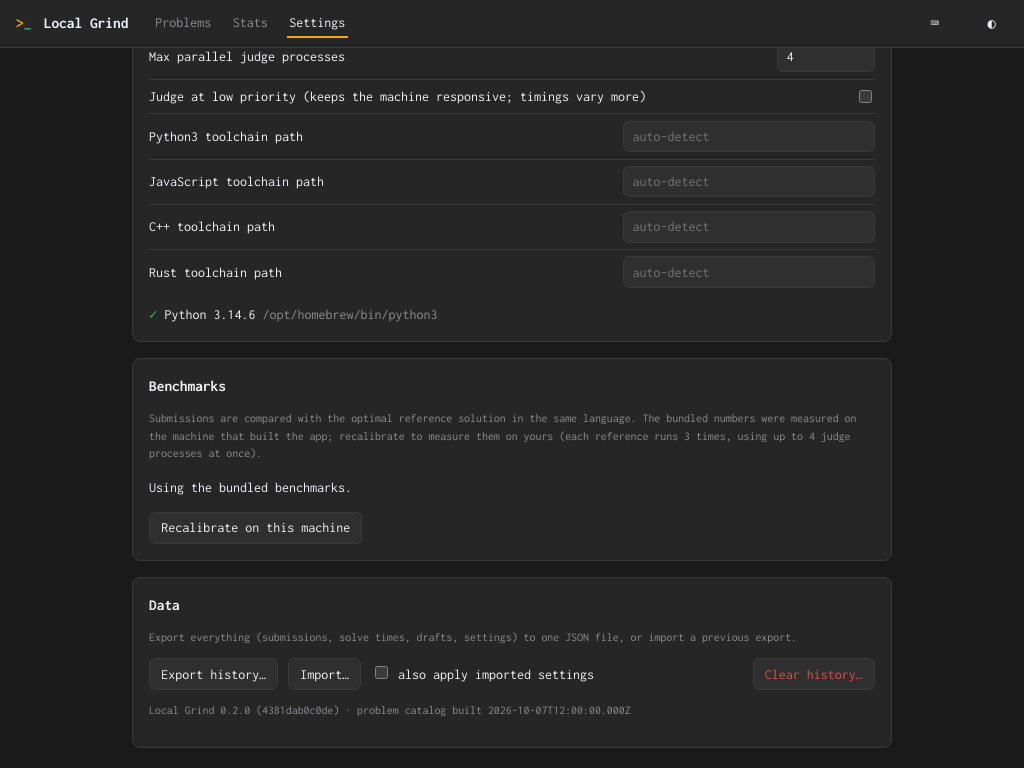
Test: App › can stop a recalibration and reports failures
The width and height of the screenshot is (1024, 768).
(page scrolled)
Expected: the link with aria-label "Local Grind home" is shown, [16,12,128,35]
Click the button "Recalibrate on this machine" at (256, 528), box [149,512,362,544]
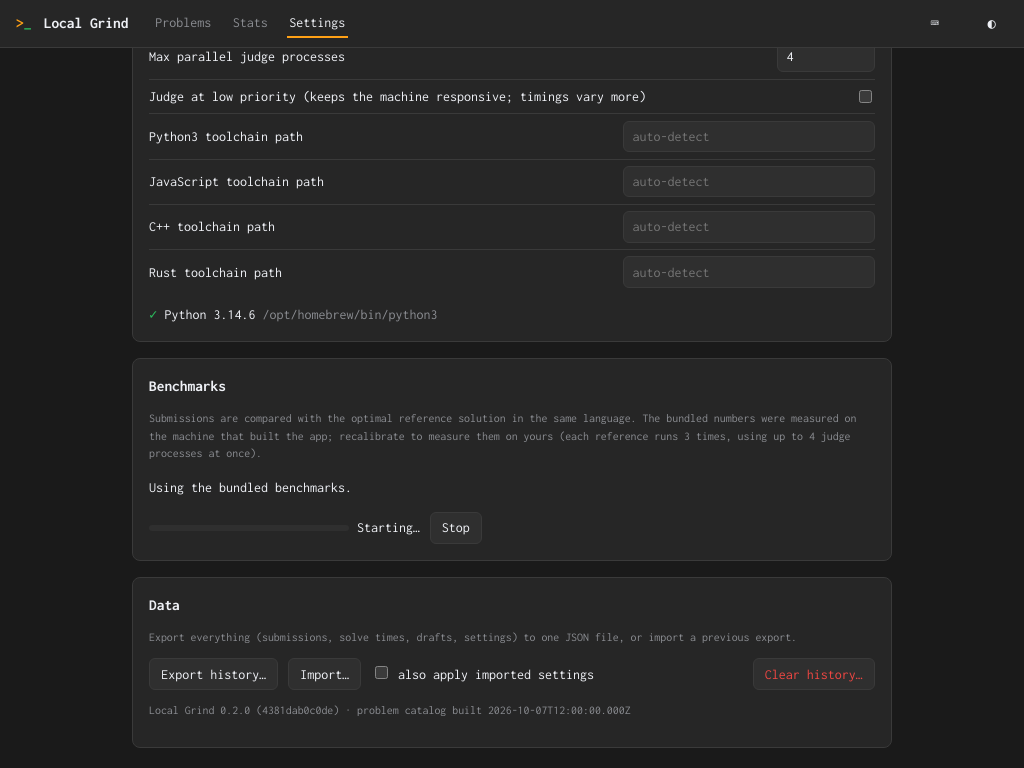
Click the button "Stop" at (456, 528), box [430,512,482,544]
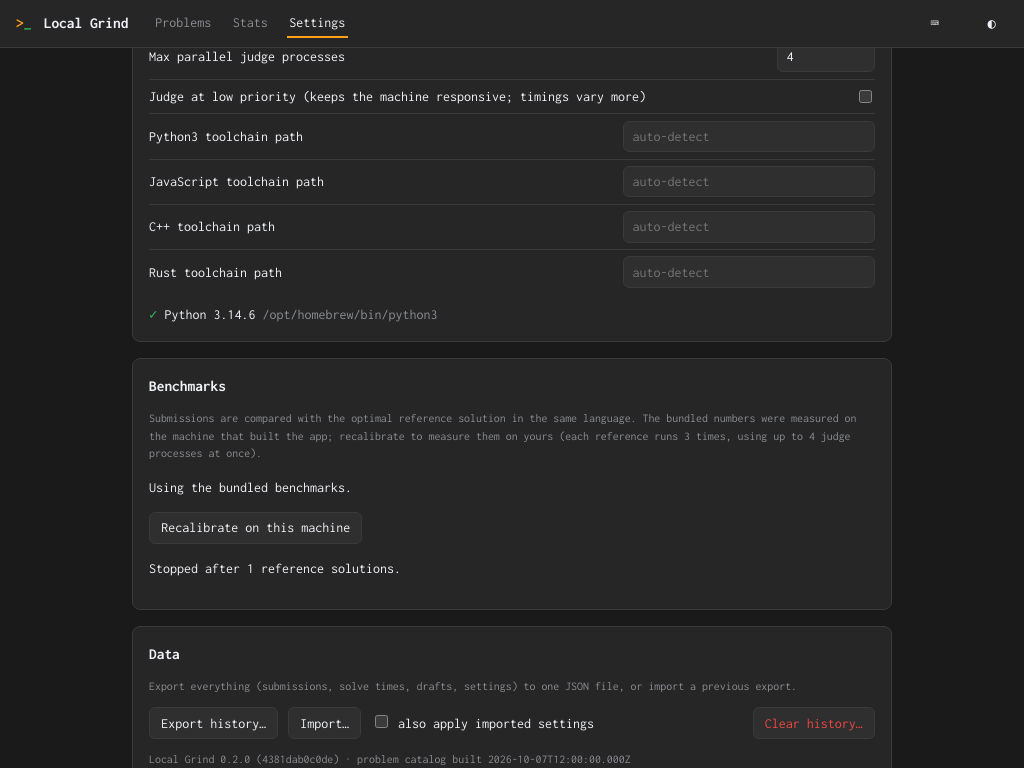
Expected: the text "Stopped after 1 reference solutions." is shown, [149,561,401,576]
